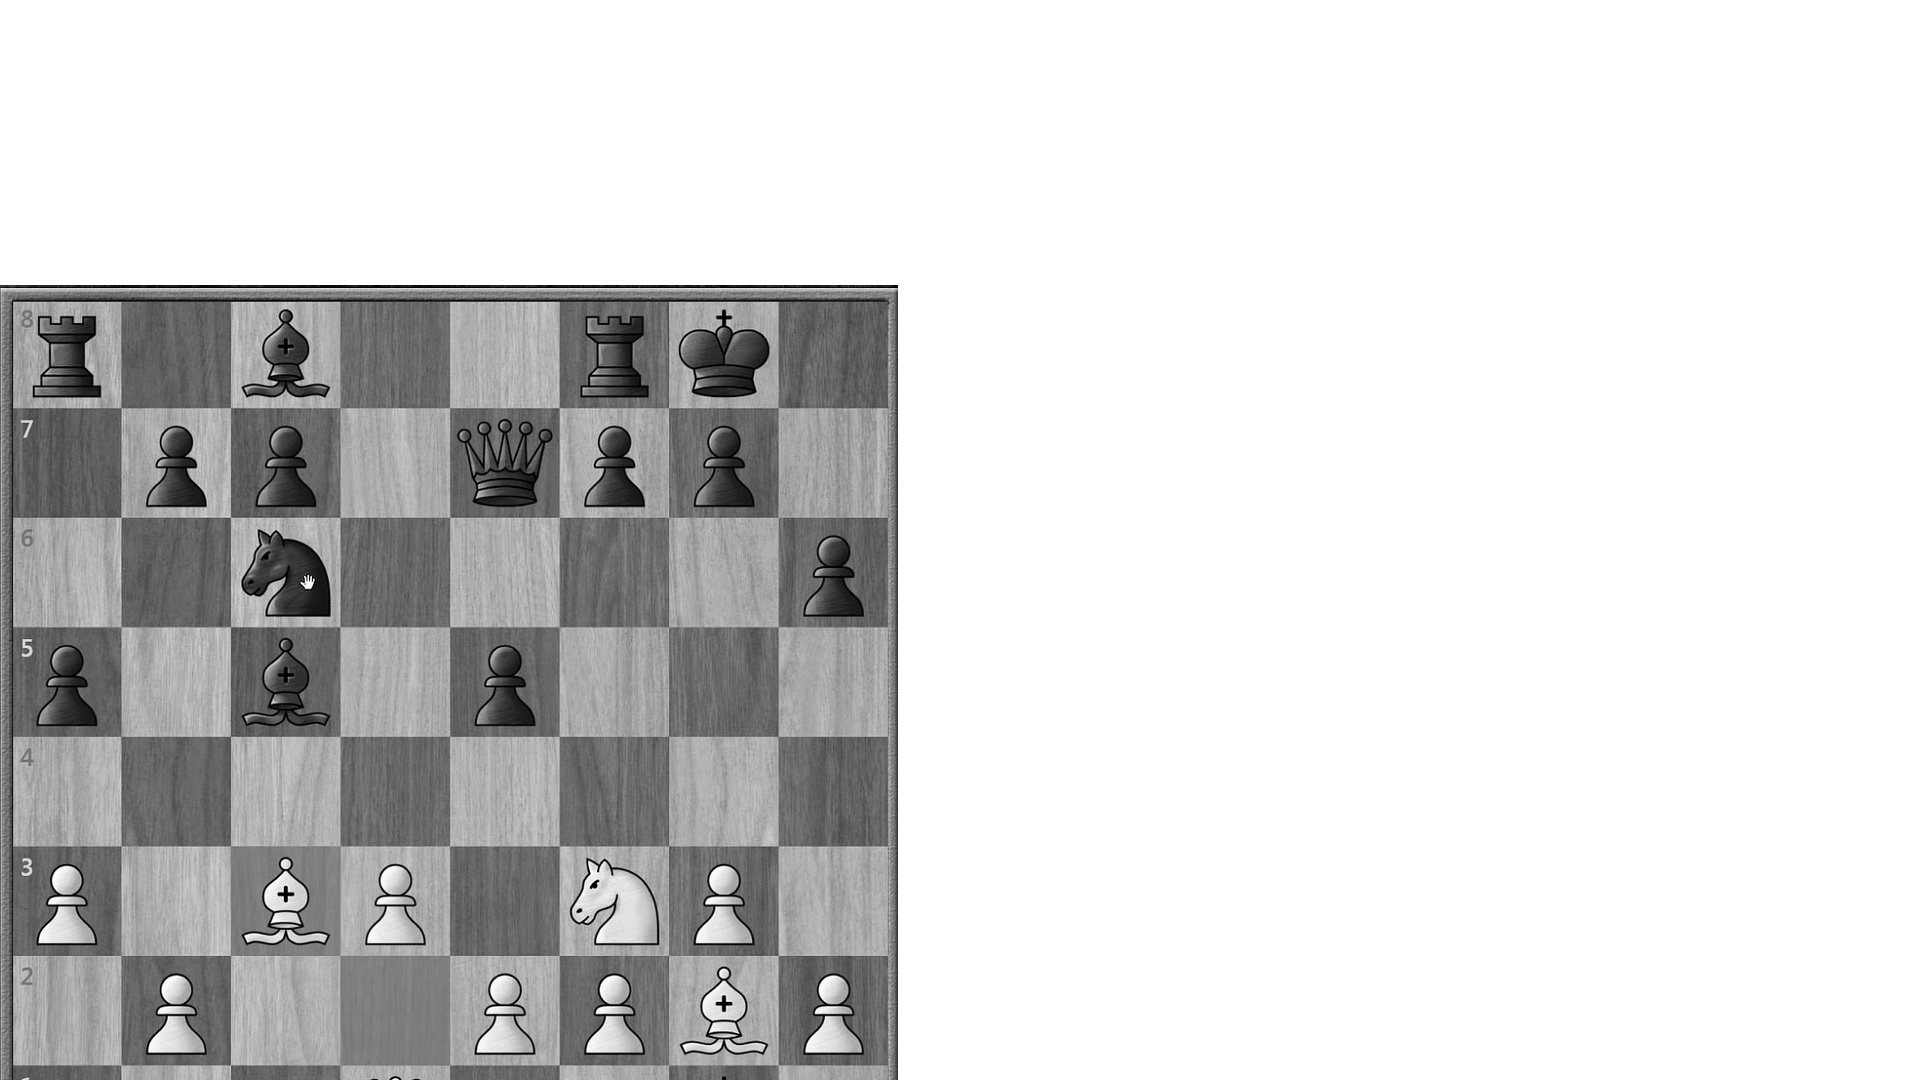knight: (560, 847, 671, 949), (233, 524, 344, 622)
pawn: (778, 518, 894, 628), (15, 849, 116, 955), (15, 629, 109, 737), (129, 410, 222, 516)
